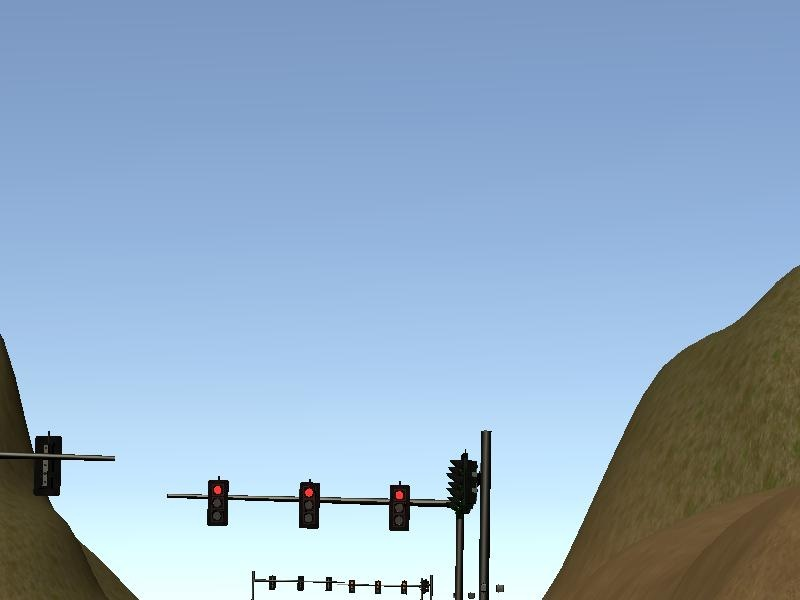red: (203, 473, 233, 531), (293, 478, 321, 531), (387, 481, 413, 534)
